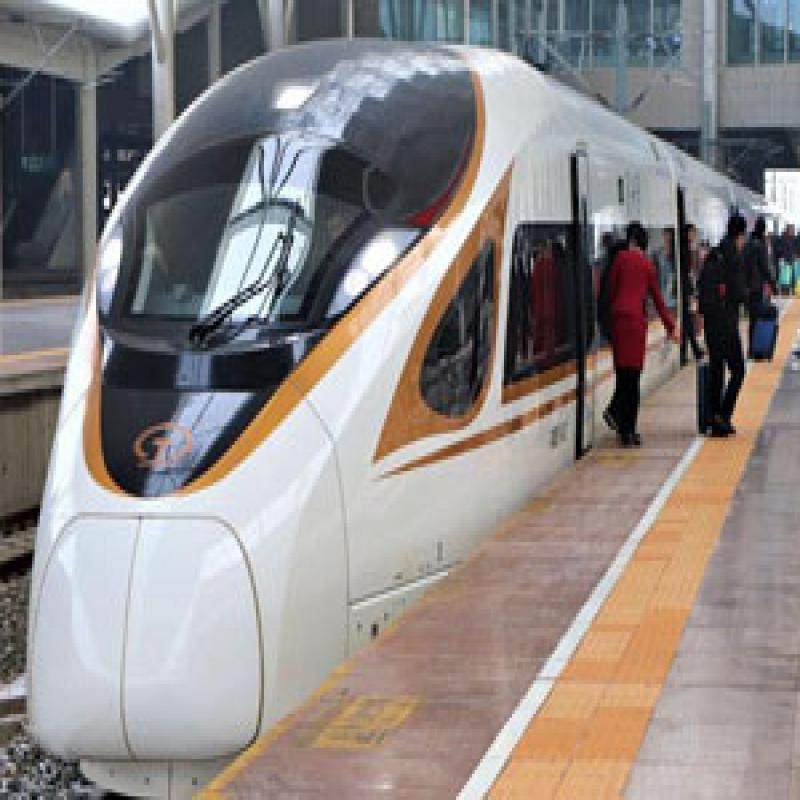train: (12, 54, 500, 742)
